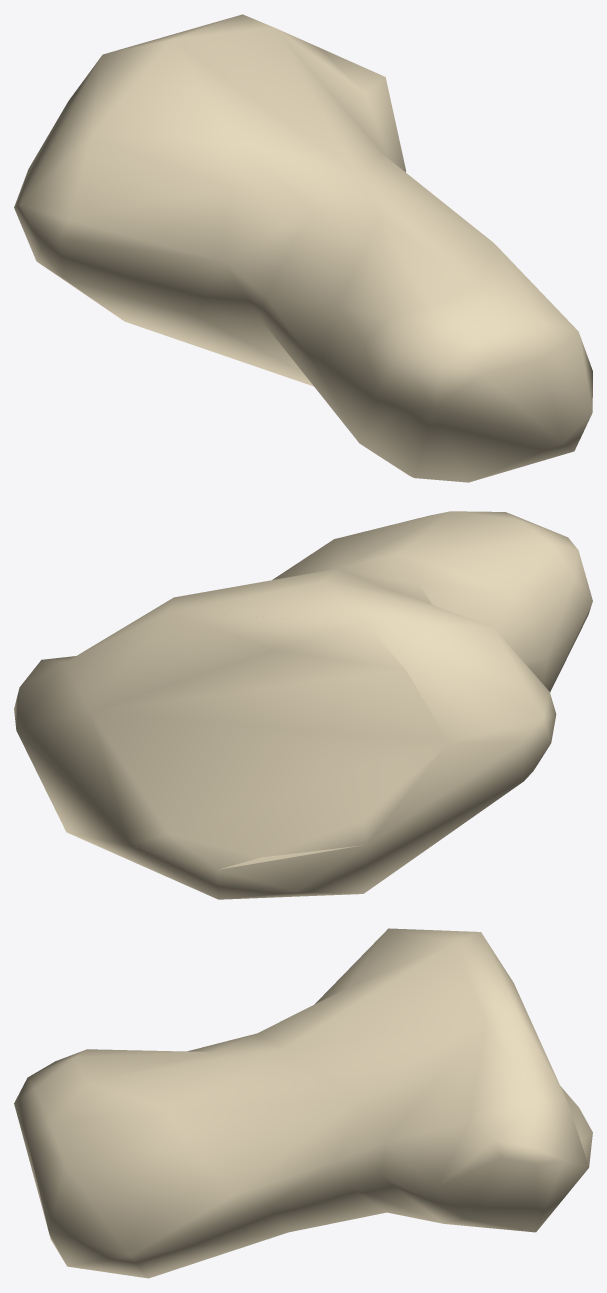
The model's file is esqueleto-distal-phalanx-of-fifth-finger-of-foot-l.glb.
3 renders of one model, top to bottom at view 1: azimuth 30°, elevation 25°; view 2: azimuth 150°, elevation 25°; view 3: azimuth 270°, elevation 25°, orthographic. The views are drawn at different scales.
Visible parts, largest first — view 1: Distal phalanx of fifth finger of foot.l; view 2: Distal phalanx of fifth finger of foot.l; view 3: Distal phalanx of fifth finger of foot.l.
Part boxes in pixels (x1,y1,x2,y2): Distal phalanx of fifth finger of foot.l: (14, 14, 592, 482); Distal phalanx of fifth finger of foot.l: (14, 511, 592, 899); Distal phalanx of fifth finger of foot.l: (14, 928, 592, 1278).
Size of the model in its own units: 0.00789 by 0.00563 by 0.0109.
